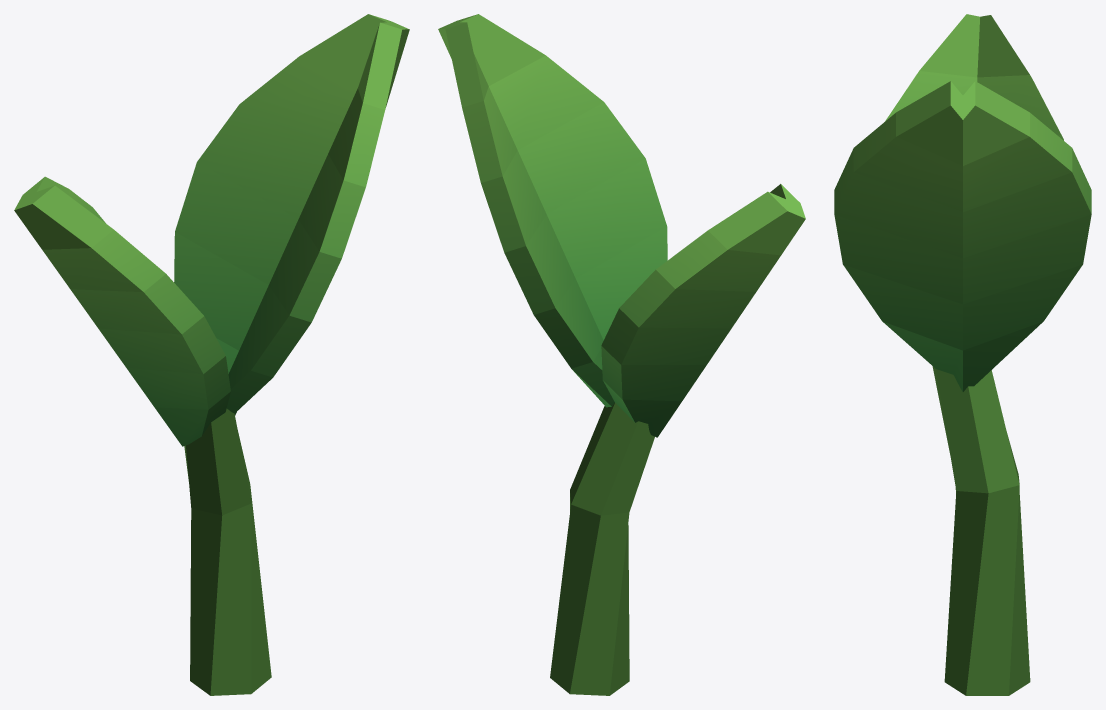
The model's file is slime_acc_leaf.fbx.
3 renders of one model, left to right at view 1: azimuth 30°, elevation 25°; view 2: azimuth 150°, elevation 25°; view 3: azimuth 270°, elevation 25°, orthographic. The views are drawn at different scales.
Parts seen in each view (by area): view 1: slime_acc_leaf; view 2: slime_acc_leaf; view 3: slime_acc_leaf.
Part boxes in pixels (box(x1,y1,x2,y2)): slime_acc_leaf: box(14, 14, 409, 695); slime_acc_leaf: box(438, 14, 805, 695); slime_acc_leaf: box(834, 14, 1091, 695).
Size of the model in its own units: 0.7639 by 1.21 by 0.42.
